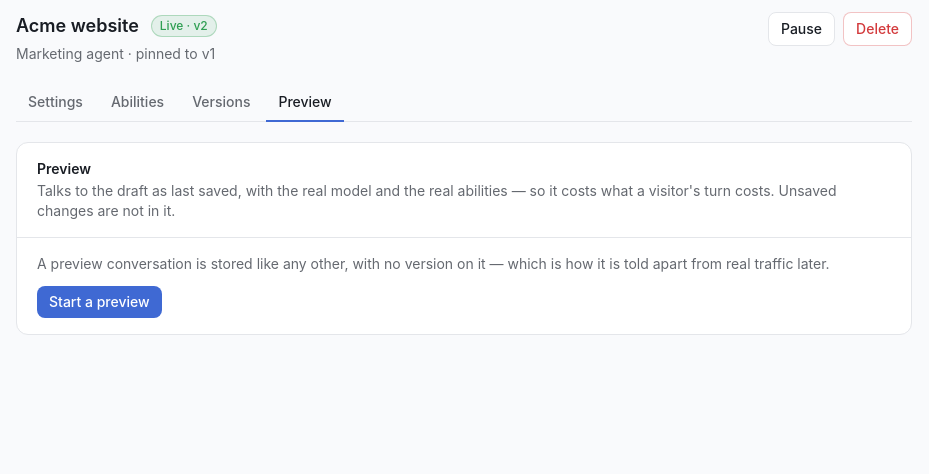
it: the preview › sends a message and shows the reply with its sources
The image size is (929, 474).
Click the button "Start a preview" at (99, 302), box [37,286,162,318]
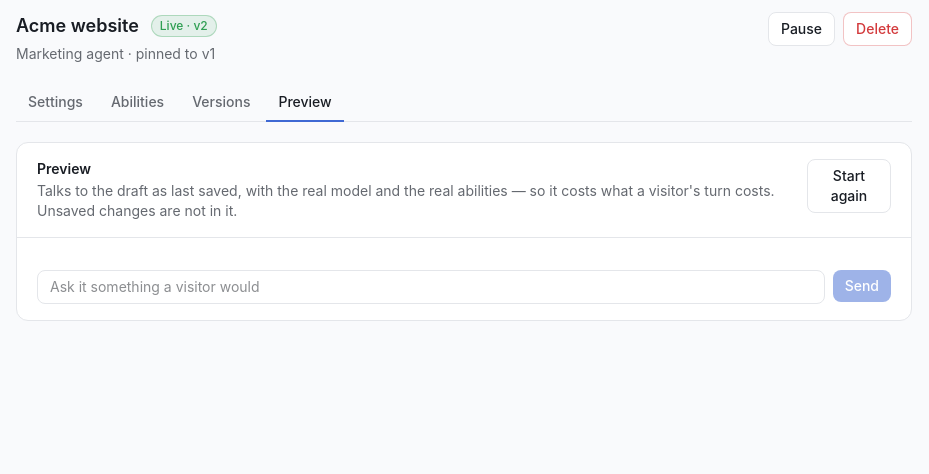
Type "What do you do?" into the field named "Message to the draft" at (431, 287), box [37,270,825,304]
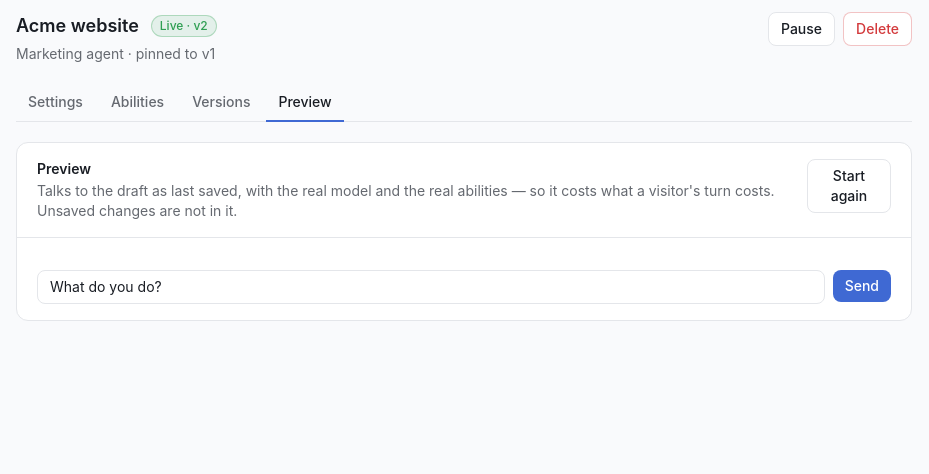
Click the button "Send" at (862, 286), box [833,270,891,302]
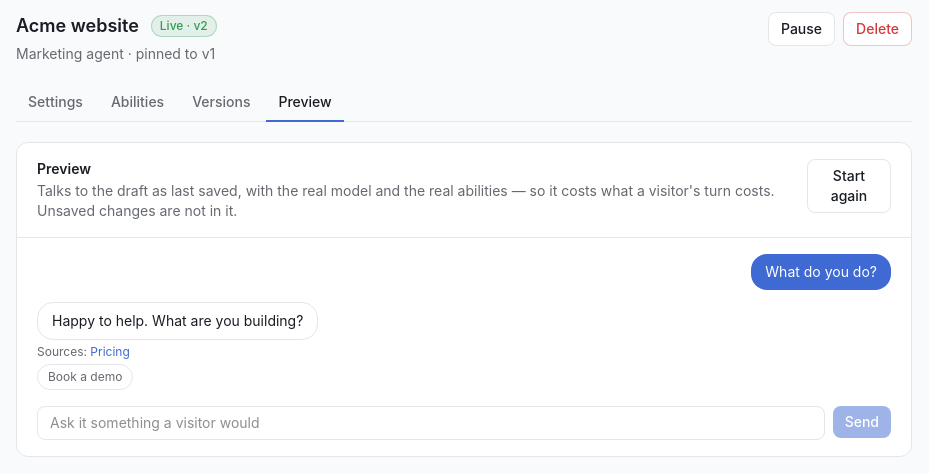
Now the text "Happy to help. What are you building?" is shown, box [37,302,318,340]
Now the text "What do you do?" is shown, box [751,254,891,290]
Now the link "Pricing" is shown, box [90,344,130,359]
